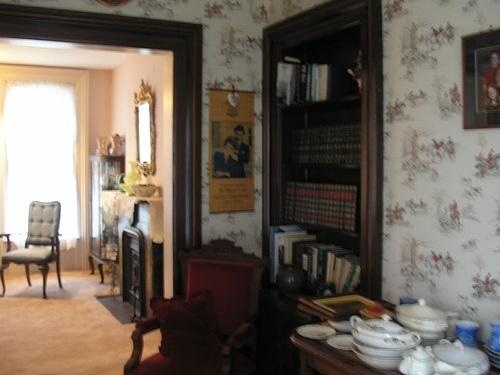chair: (122, 237, 269, 375), (1, 199, 65, 301)
